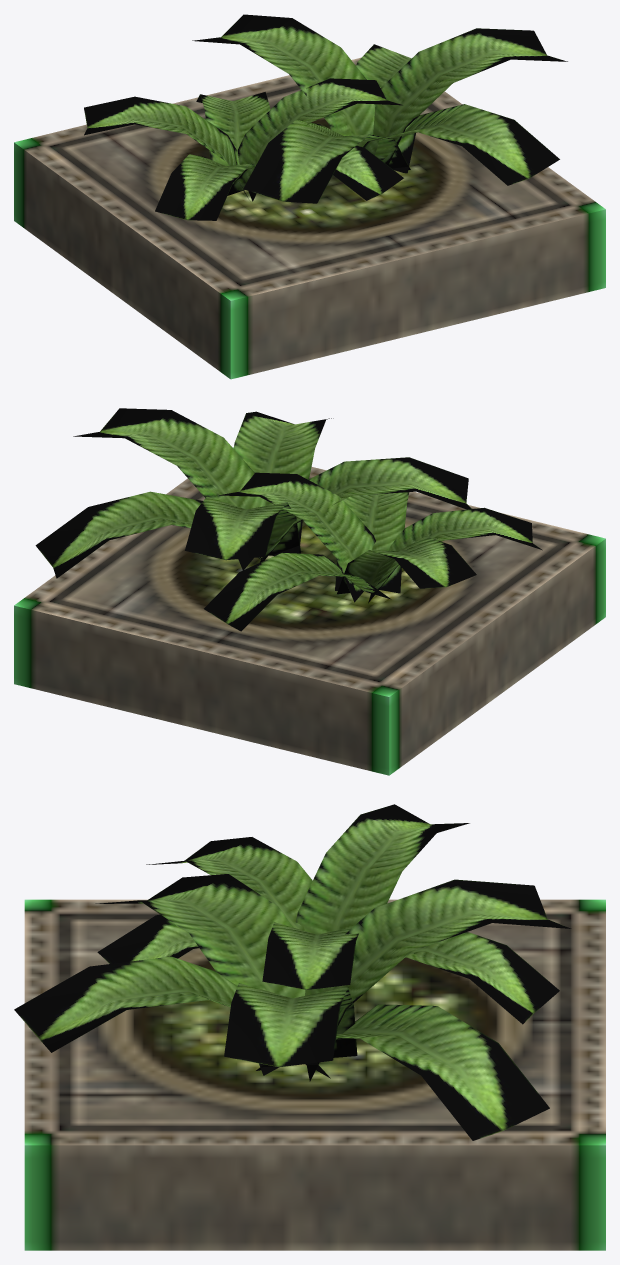
The model's file is tree03.glb.
The picture shows the model from 3 angles, top to bottom: view 1: azimuth 30°, elevation 25°; view 2: azimuth 150°, elevation 25°; view 3: azimuth 270°, elevation 25°; orthographic projection. The views are drawn at different scales.
Visible parts, largest first — view 1: tree03; view 2: tree03; view 3: tree03.
Part boxes in pixels (x1,y1,x2,y2): tree03: [14, 14, 605, 379]; tree03: [14, 408, 605, 775]; tree03: [14, 804, 605, 1250].
Bounding box in the file's own units: 5.69 × 2.24 × 5.09.
Materials: 1 (1 with a texture image).
